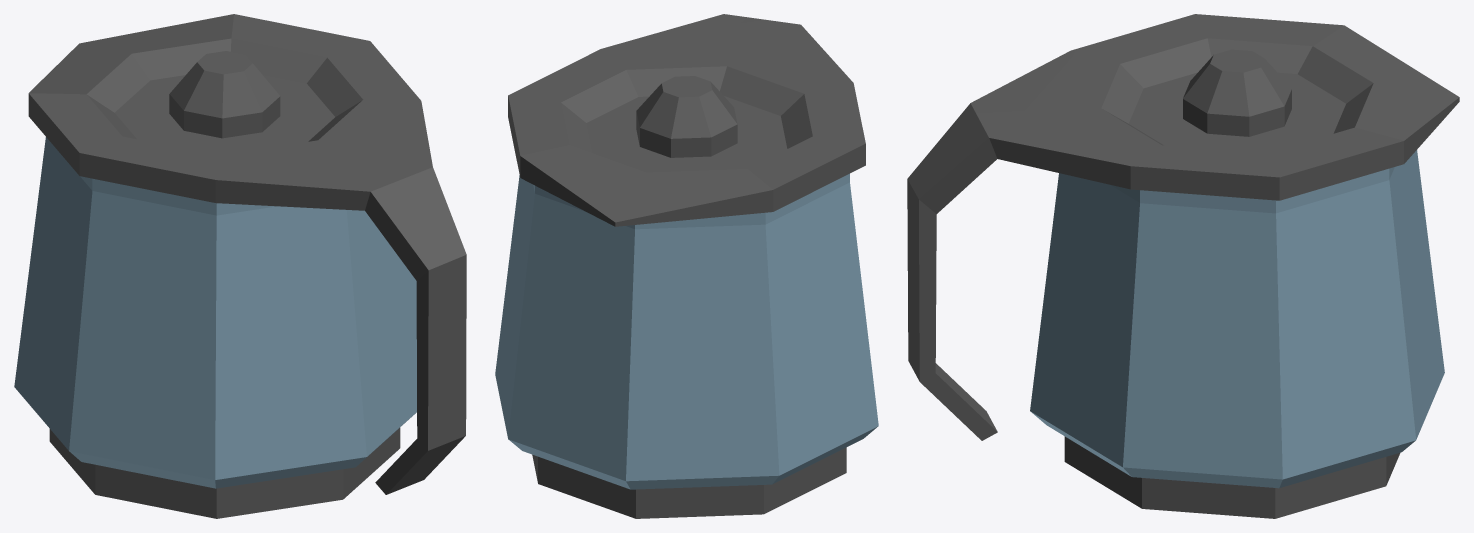
File: Coffee_Pot_231109.glb
The picture shows the model from 3 angles, left to right: view 1: azimuth 30°, elevation 25°; view 2: azimuth 150°, elevation 25°; view 3: azimuth 270°, elevation 25°; orthographic projection. The views are drawn at different scales.
Parts seen in each view (by area): view 1: Coffee_Pot; view 2: Coffee_Pot; view 3: Coffee_Pot.
Part boxes in pixels (<box>): Coffee_Pot: <box>14,14,466,518</box>; Coffee_Pot: <box>495,14,878,518</box>; Coffee_Pot: <box>907,14,1459,518</box>.
Size of the model in its own units: 0.4832 by 0.4945 by 0.6432.
1 material, 1 textured.
